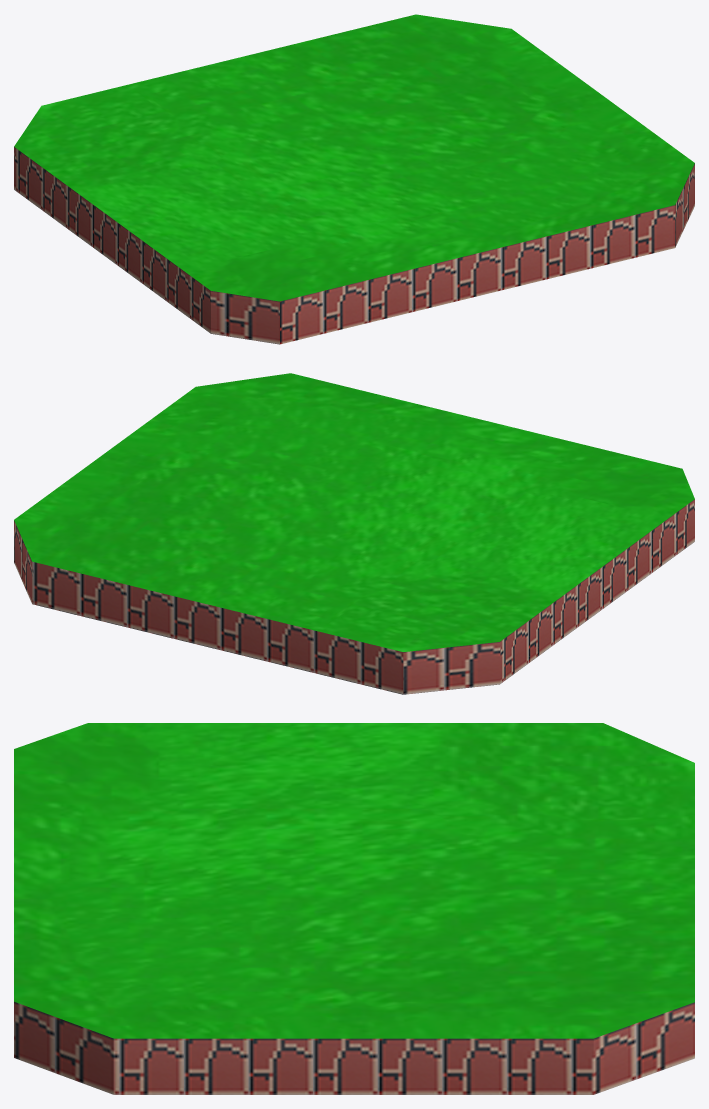
The model's file is BigBoxOnGoal.FBX.
The picture shows the model from 3 angles, top to bottom: view 1: azimuth 30°, elevation 25°; view 2: azimuth 150°, elevation 25°; view 3: azimuth 270°, elevation 25°; orthographic projection. The views are drawn at different scales.
Parts seen in each view (by area): view 1: Line013; view 2: Line013; view 3: Line013.
Boxes of the visible parts, x1,y1,x2,y2 form: Line013: (14,14,694,344); Line013: (14,373,694,694); Line013: (14,723,694,1094).
Size of the model in its own units: 4.73 by 0.3937 by 4.32.
